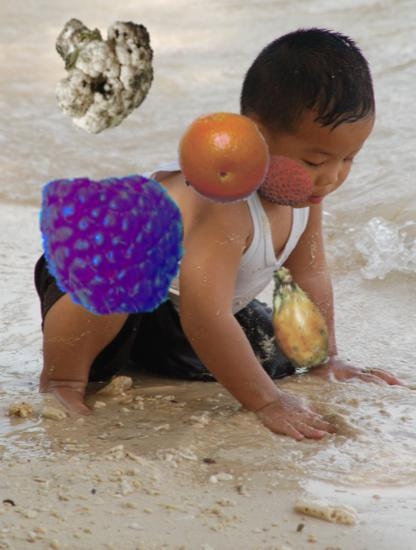Cactus: (242, 264, 350, 372)
Cauliflower: (37, 5, 163, 131)
Lychee: (255, 152, 314, 211)
Raspberry: (39, 171, 187, 319)
Tangelo: (175, 110, 271, 206)
